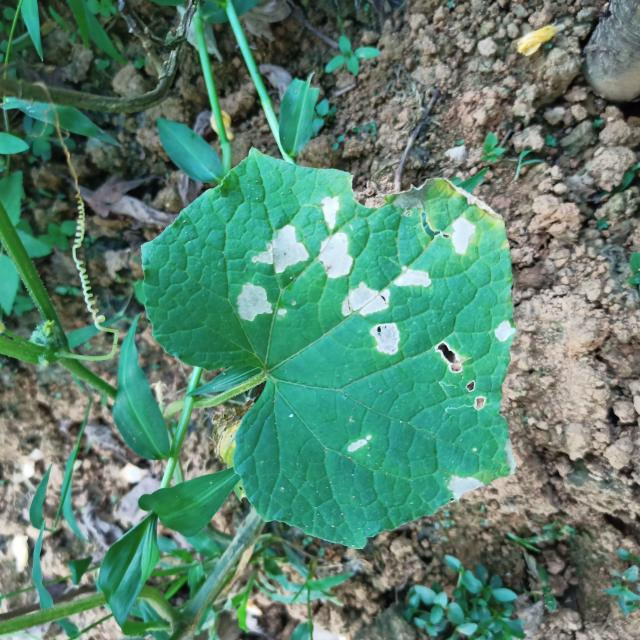disease_cucumber: (342, 280, 400, 357), (438, 342, 486, 413), (250, 224, 310, 276), (319, 196, 355, 280), (238, 282, 291, 324), (448, 474, 486, 501), (451, 215, 474, 256), (395, 264, 431, 290), (493, 319, 514, 344), (347, 434, 372, 454)
